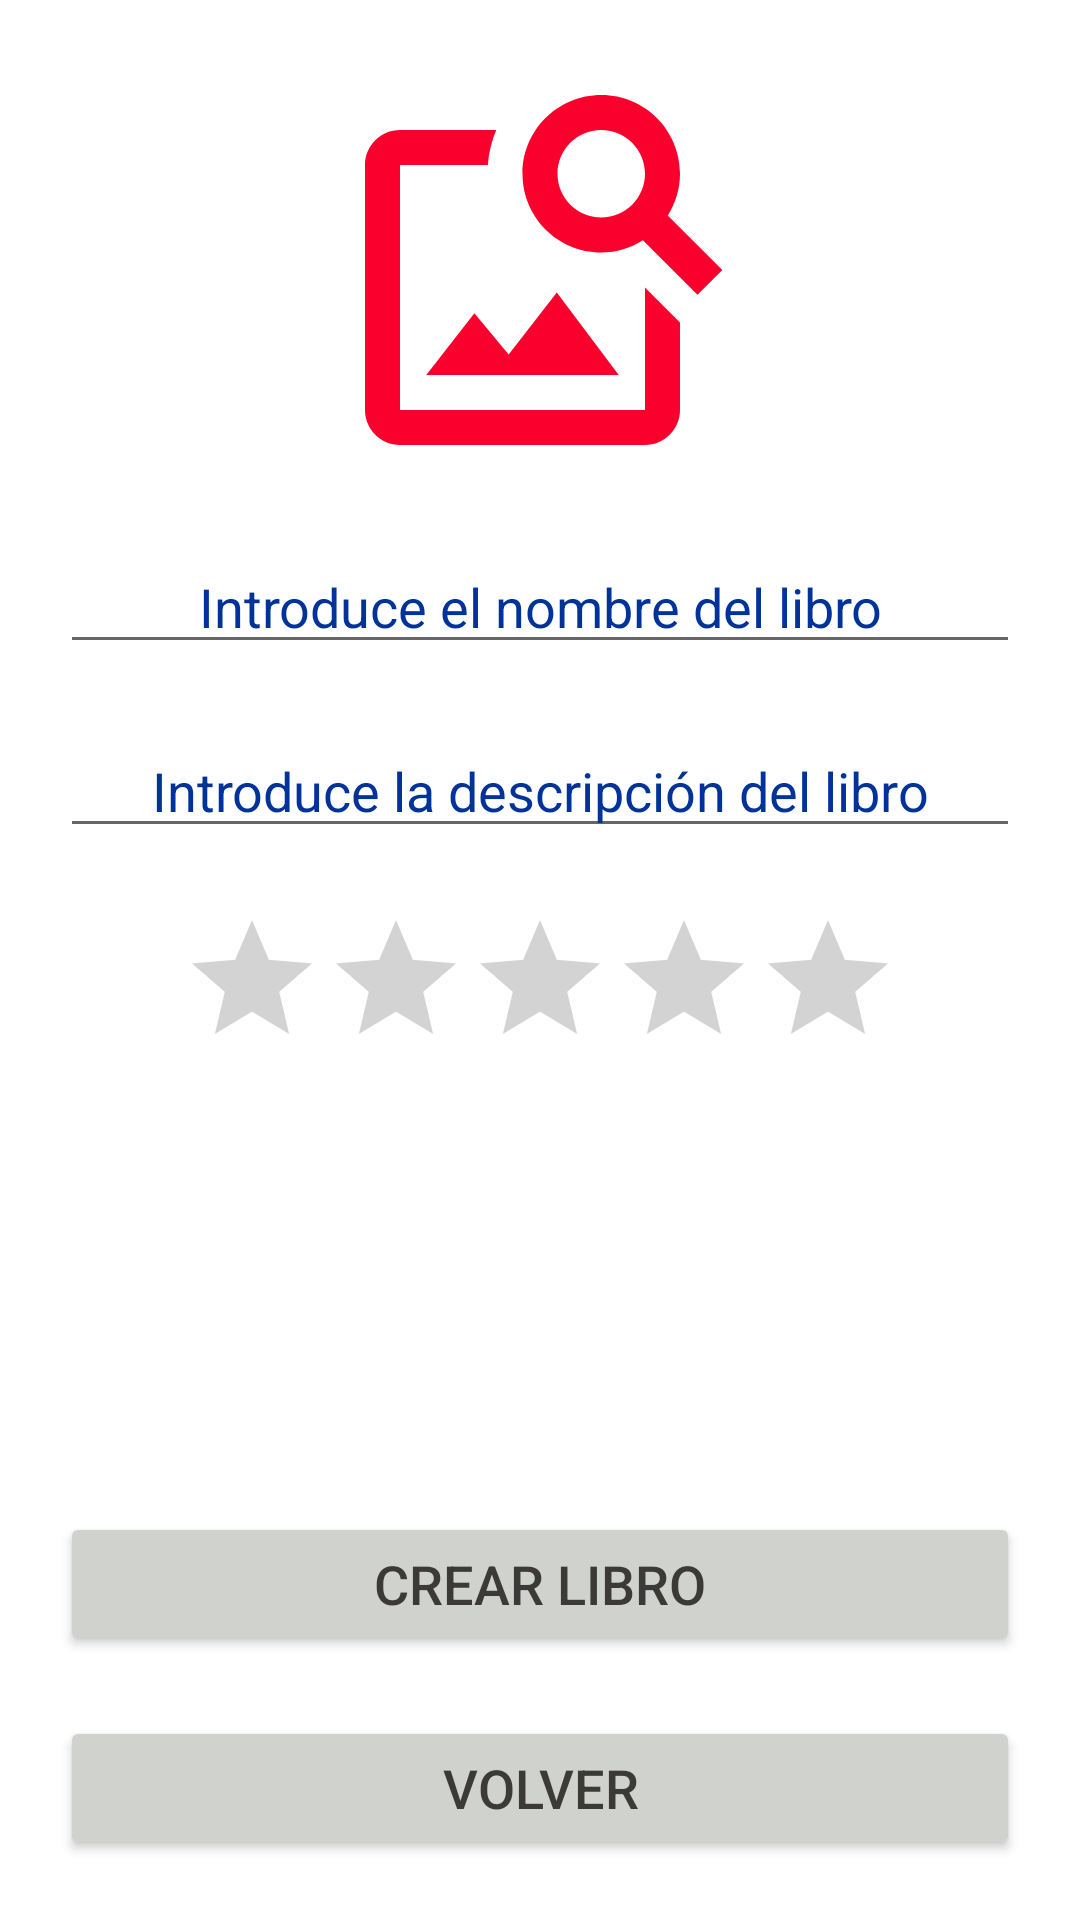

Where icons sit on this 1080w x 1920h app screen, as [x1,y1,x2,y2]:
search: [365,95,722,445]
